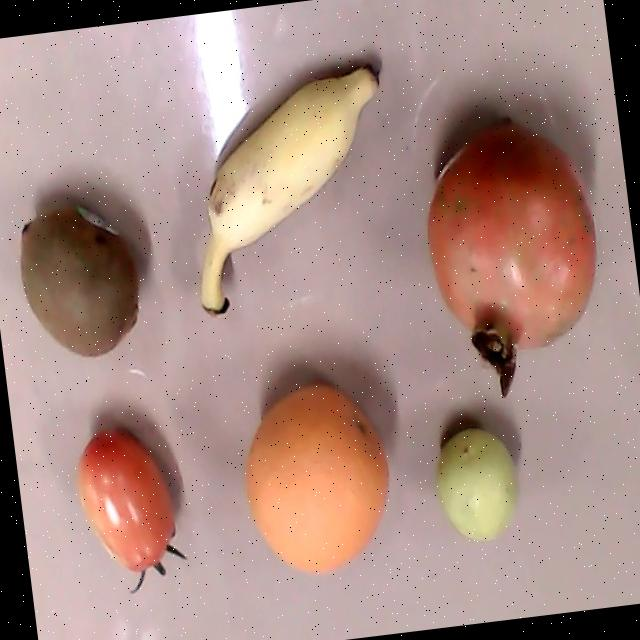kiwi: (19, 200, 138, 356)
lemon: (435, 427, 518, 542)
orange: (242, 384, 388, 573)
pomegranate: (426, 122, 595, 397)
tomato: (76, 427, 186, 593)
